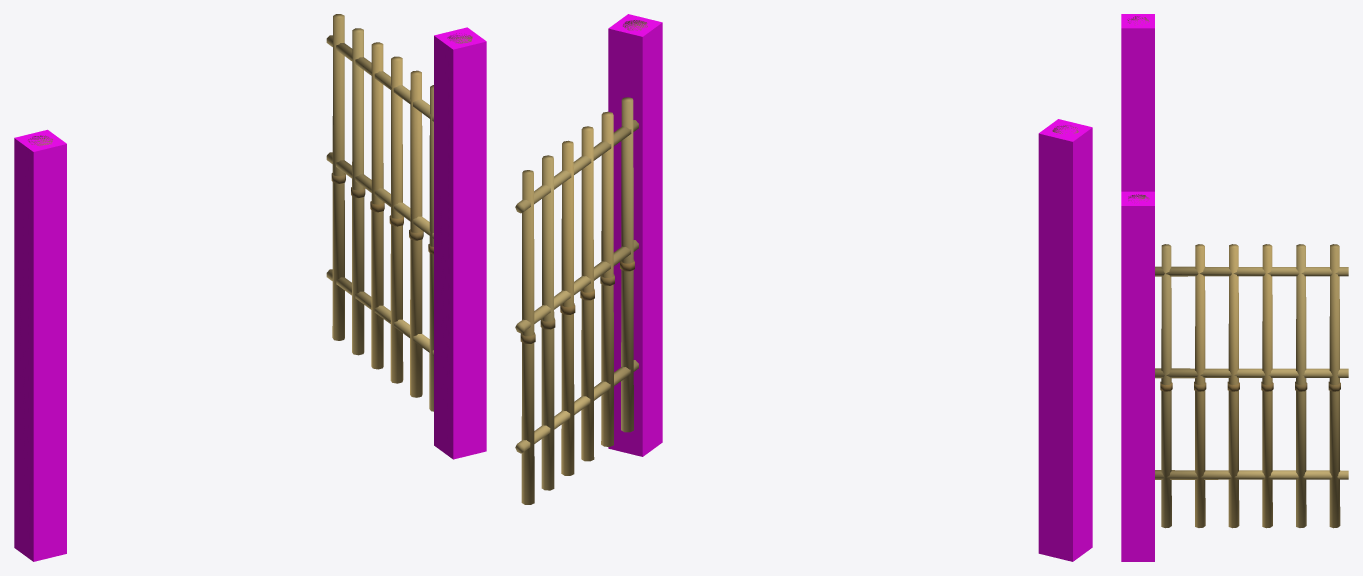
The model's file is PRP_Garden_Gate_A.glb.
3 views of the same model, side by side, from view 1: azimuth 30°, elevation 25°; view 2: azimuth 150°, elevation 25°; view 3: azimuth 270°, elevation 25° (orthographic). The views are drawn at different scales.
Visible parts, largest first — view 1: PRP_Garden_Gate_A_Mesh, COL_Post_1, COL_Post_-1; view 2: PRP_Garden_Gate_A_Mesh, COL_Post_-1, COL_Post_1; view 3: PRP_Garden_Gate_A_Mesh, COL_Post_1, COL_Post_-1.
Boxes of the visible parts, left/top/right/bottom form: PRP_Garden_Gate_A_Mesh: left=28, top=14, right=472, bottom=411; COL_Post_1: left=434, top=27, right=486, bottom=459; COL_Post_-1: left=14, top=129, right=66, bottom=561; PRP_Garden_Gate_A_Mesh: left=515, top=20, right=1078, bottom=504; COL_Post_-1: left=1038, top=119, right=1092, bottom=561; COL_Post_1: left=608, top=14, right=662, bottom=456; PRP_Garden_Gate_A_Mesh: left=1127, top=16, right=1348, bottom=528; COL_Post_1: left=1121, top=191, right=1154, bottom=561; COL_Post_-1: left=1121, top=14, right=1154, bottom=191.
Bounding box in the file's own units: 1.62 × 1.4 × 0.81.
